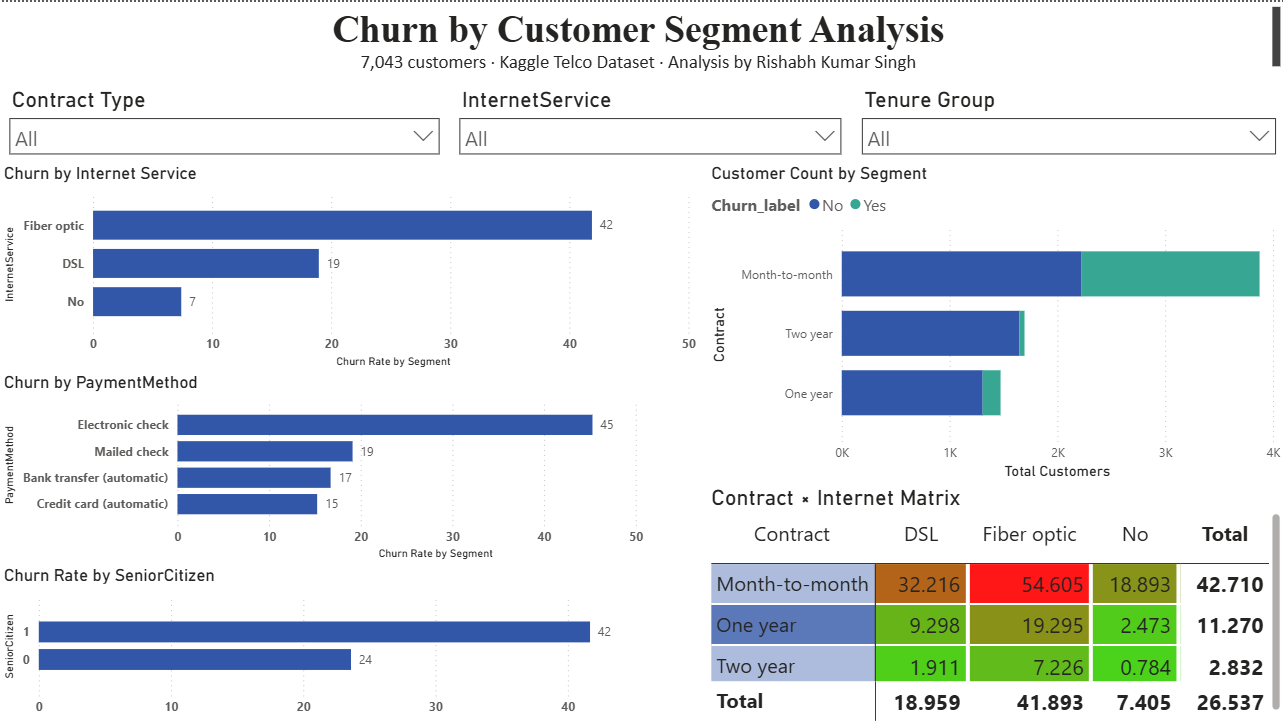

The dashboard page shown, as its layout file describes it:
{"tool":"powerbi","page":{"name":"Segment Analysis","canvas":[1280,720],"ordinal":1},"visuals":[{"type":"textbox","box":[0,0,1280,80],"z":0},{"type":"slicer","fields":{"Values":["churn_cleaned.Contract"]},"box":[0,80,448,80],"z":1000},{"type":"slicer","fields":{"Values":["churn_cleaned.InternetService"]},"box":[448,80,400,80],"z":2000},{"type":"slicer","fields":{"Values":["churn_cleaned.Tenure Group"]},"box":[848,80,432,80],"z":3000},{"type":"clusteredBarChart","title":"Churn by Internet Service","fields":{"Category":["churn_cleaned.InternetService"],"Y":["churn_cleaned.Churn Rate by Segment"]},"box":[0,160,704,208],"z":4000},{"type":"clusteredBarChart","title":"Churn by PaymentMethod","fields":{"Category":["churn_cleaned.PaymentMethod"],"Y":["churn_cleaned.Churn Rate by Segment"]},"box":[0,368,704,192],"z":5000},{"type":"clusteredBarChart","title":"Churn Rate by SeniorCitizen","fields":{"Y":["churn_cleaned.Churn Rate by Segment"],"Category":["churn_cleaned.SeniorCitizen"]},"box":[0,560,704,160],"z":6000},{"type":"barChart","title":"Customer Count by Segment","fields":{"Category":["churn_cleaned.Contract"],"Y":["churn_cleaned.Total Customers"],"Series":["churn_cleaned.Churn_label"]},"box":[704,160,576,320],"z":7000},{"type":"pivotTable","title":"Contract × Internet Matrix","fields":{"Rows":["churn_cleaned.Contract"],"Columns":["churn_cleaned.InternetService"],"Values":["churn_cleaned.Churn Rate by Segment"]},"box":[704,480,576,240],"z":8000}]}

Visuals, with their boxes in screenshot pixels (x1, y1, x2, y2), scaled from the page's 1280x720 canvas onto the 1283x723 screenshot:
textbox: BBox(0, 0, 1282, 80)
slicer - churn_cleaned.Contract: BBox(0, 80, 449, 161)
slicer - churn_cleaned.InternetService: BBox(449, 80, 850, 161)
slicer - churn_cleaned.Tenure Group: BBox(850, 80, 1282, 161)
"Churn by Internet Service" clusteredBarChart: BBox(0, 161, 706, 370)
"Churn by PaymentMethod" clusteredBarChart: BBox(0, 370, 706, 562)
"Churn Rate by SeniorCitizen" clusteredBarChart: BBox(0, 562, 706, 722)
"Customer Count by Segment" barChart: BBox(706, 161, 1282, 482)
"Contract × Internet Matrix" pivotTable: BBox(706, 482, 1282, 722)
